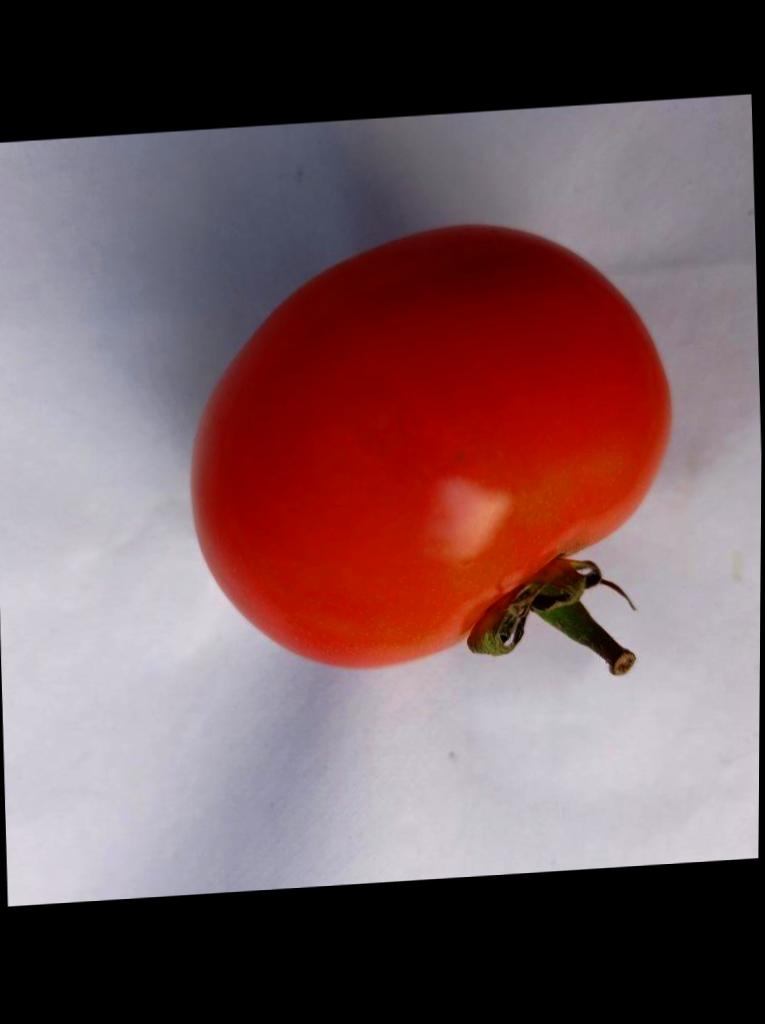tomato: (190, 227, 666, 673)
